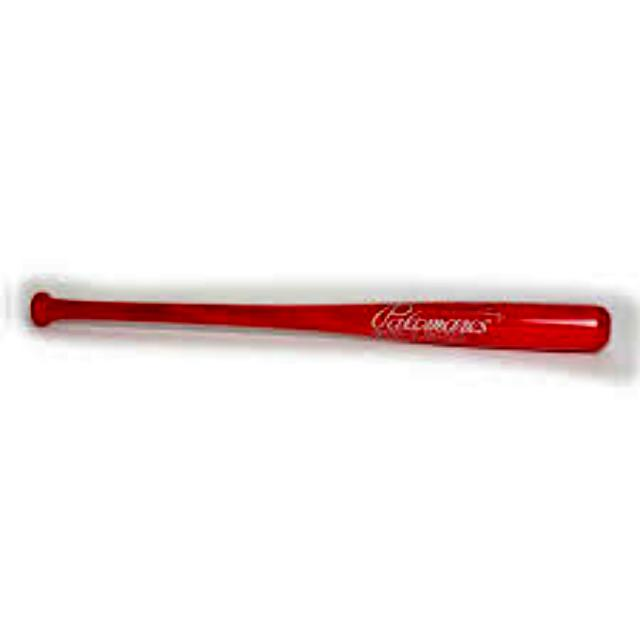baseball bat: (29, 288, 612, 352), (30, 289, 603, 350), (30, 285, 609, 327)
